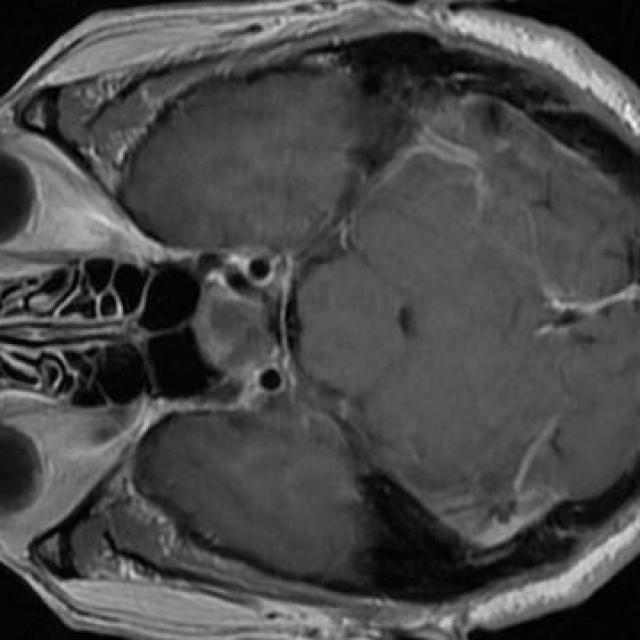pituitary: (191, 269, 275, 383)
